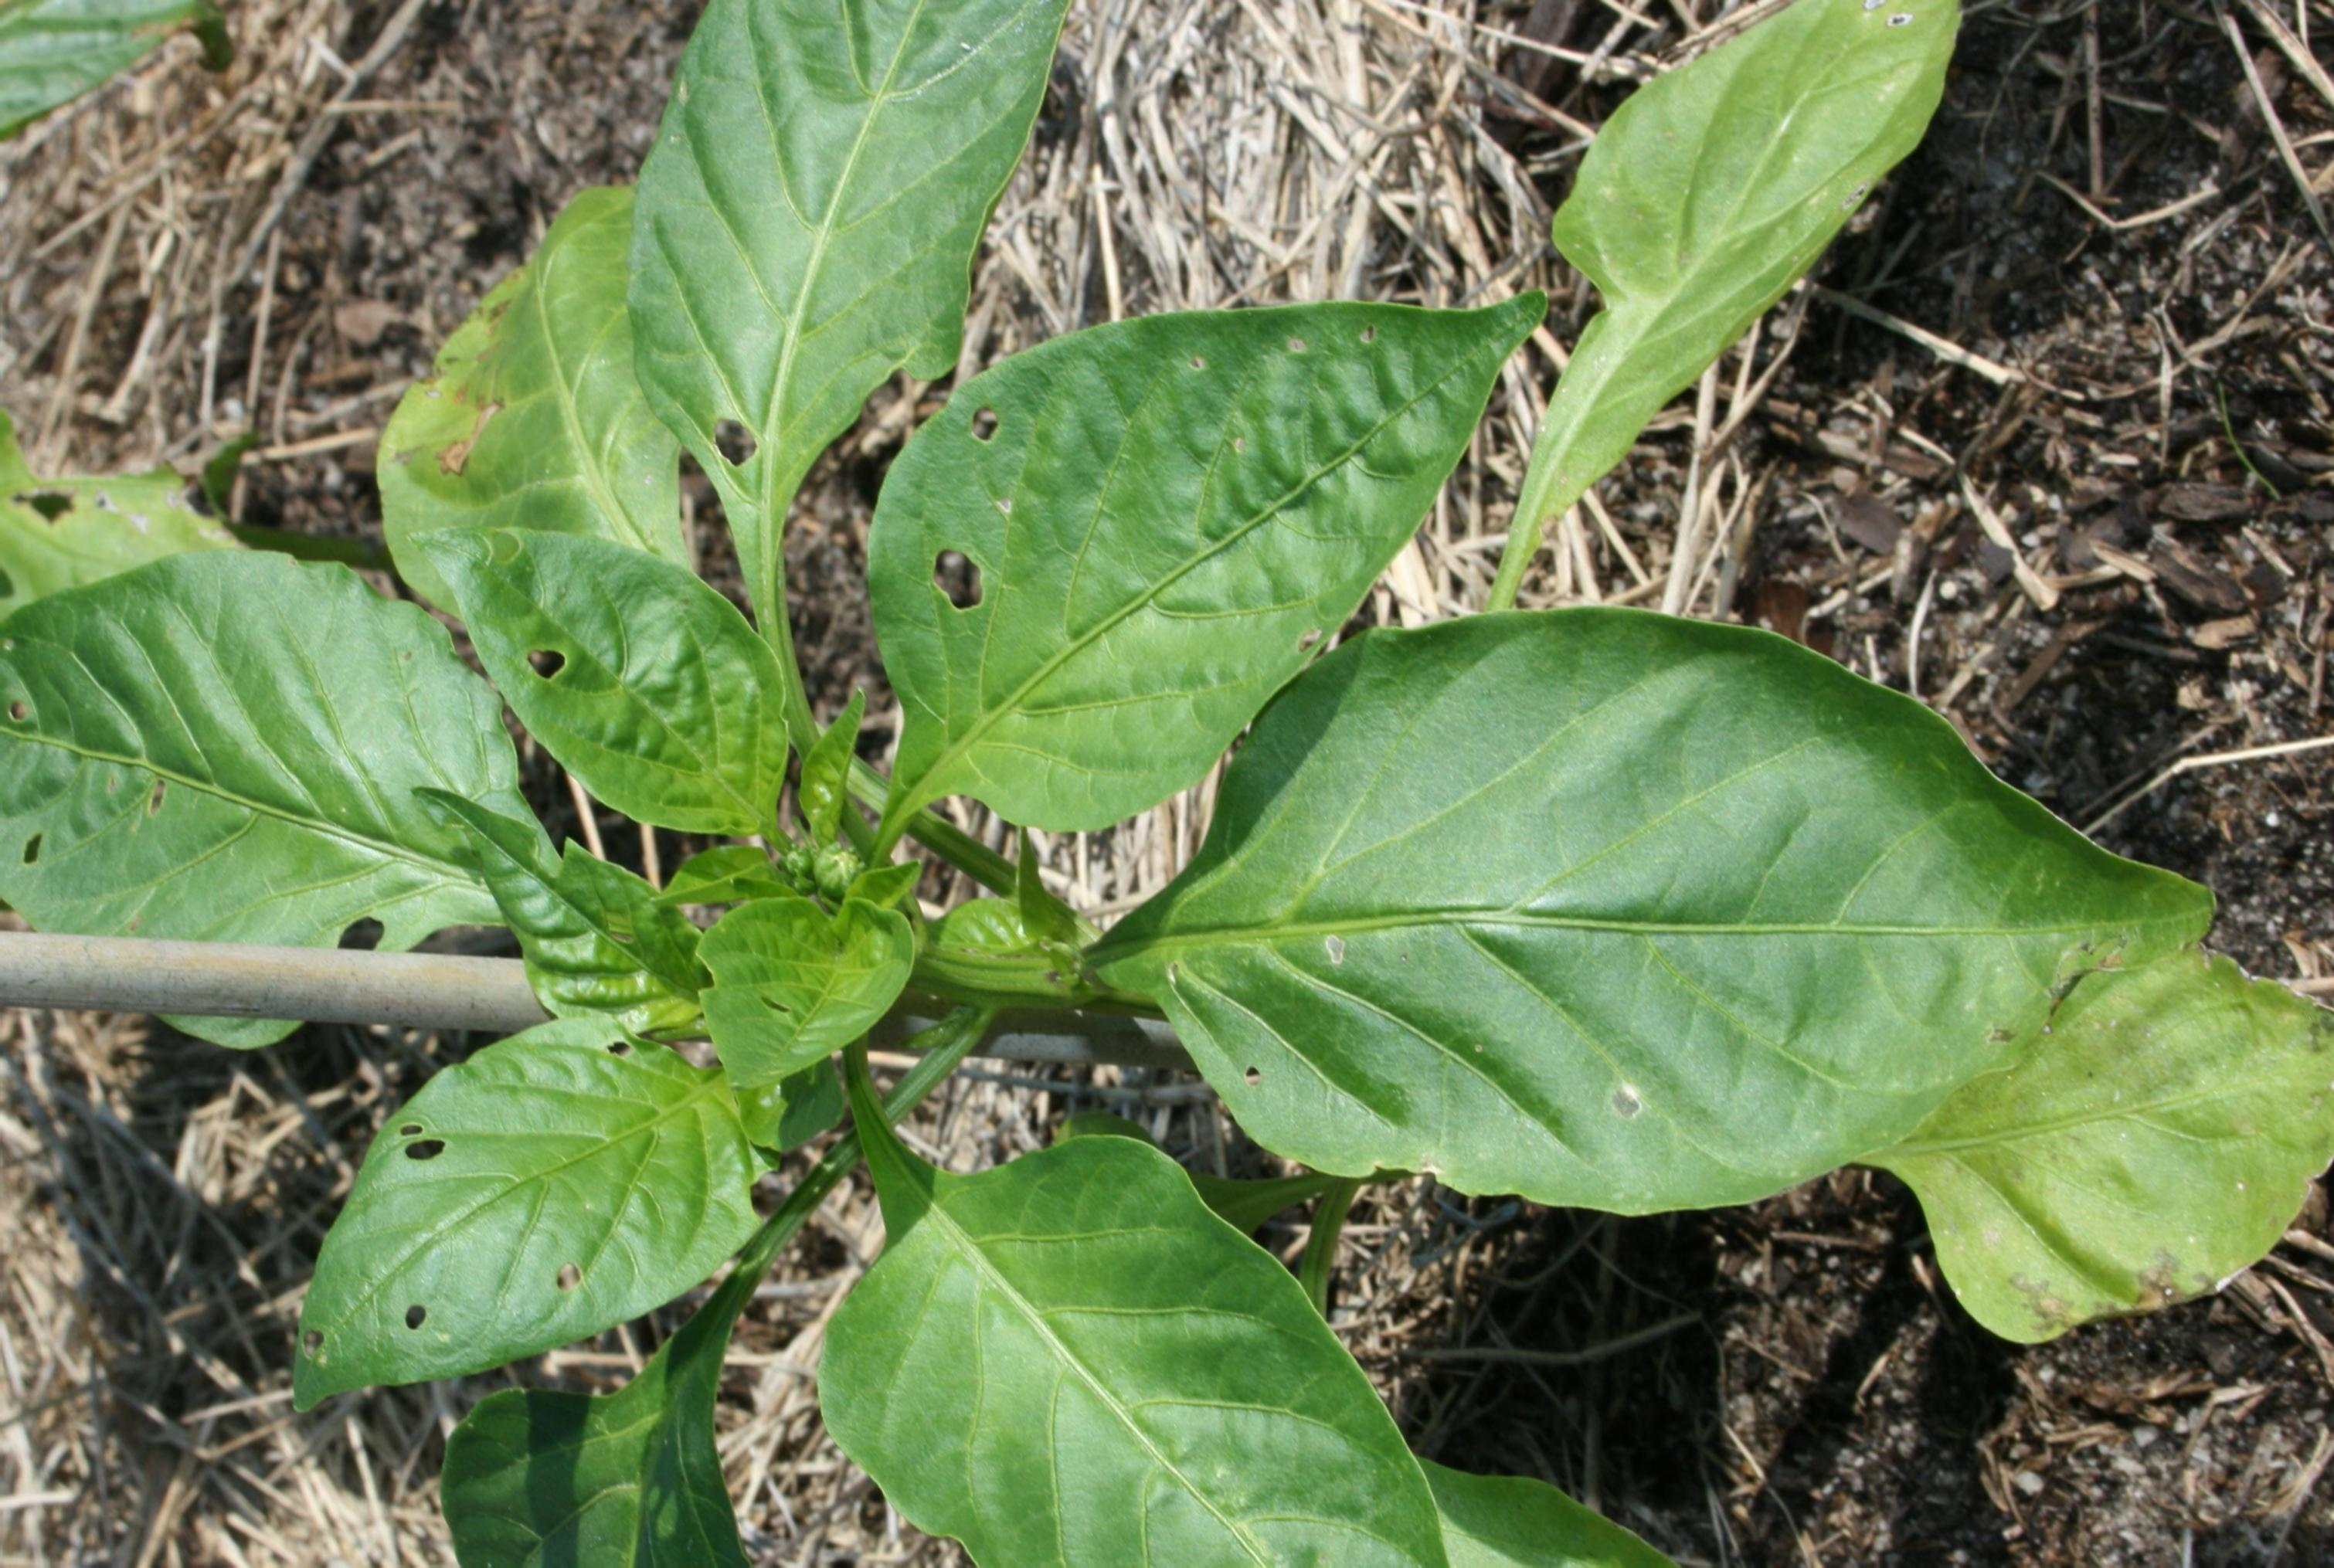Tomato leaf: (1148, 621, 2156, 1186), (842, 171, 1569, 831), (821, 1099, 1545, 1568), (1459, 0, 1956, 588), (625, 0, 1106, 602), (0, 514, 558, 978), (220, 1036, 775, 1402)
